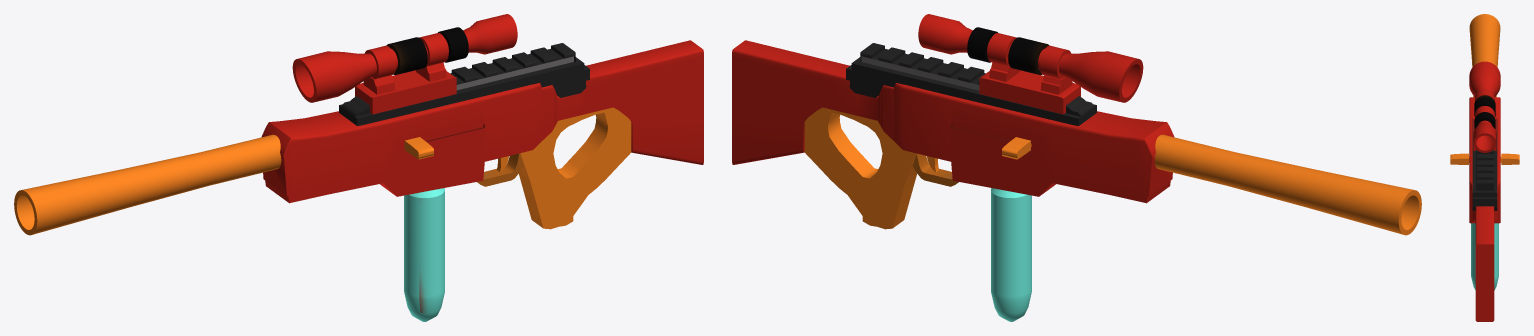
The model's file is Snipershade.fbx.
The picture shows the model from 3 angles, left to right: view 1: azimuth 30°, elevation 25°; view 2: azimuth 150°, elevation 25°; view 3: azimuth 270°, elevation 25°; orthographic projection. The views are drawn at different scales.
Parts seen in each view (by area): view 1: Cylinder.001, Cylinder, Cylinder.002, Cube; view 2: Cylinder.001, Cylinder, Cylinder.002, Cube; view 3: Cylinder.001, Cylinder, Cylinder.002, Cube.
Part boxes in pixels (x1,y1,x2,y2): Cylinder.001: [14, 40, 703, 235]; Cylinder: [292, 14, 517, 114]; Cylinder.002: [404, 188, 444, 321]; Cube: [404, 137, 433, 159]; Cylinder.001: [732, 40, 1421, 235]; Cylinder: [918, 14, 1143, 114]; Cylinder.002: [991, 188, 1031, 321]; Cube: [1002, 137, 1031, 159]; Cylinder.001: [1469, 14, 1500, 321]; Cylinder: [1469, 61, 1500, 152]; Cylinder.002: [1471, 223, 1498, 290]; Cube: [1450, 153, 1519, 164].
Bounding box in the file's own units: 409 × 169 × 54.82.
Materials: 1 (1 with a texture image).
